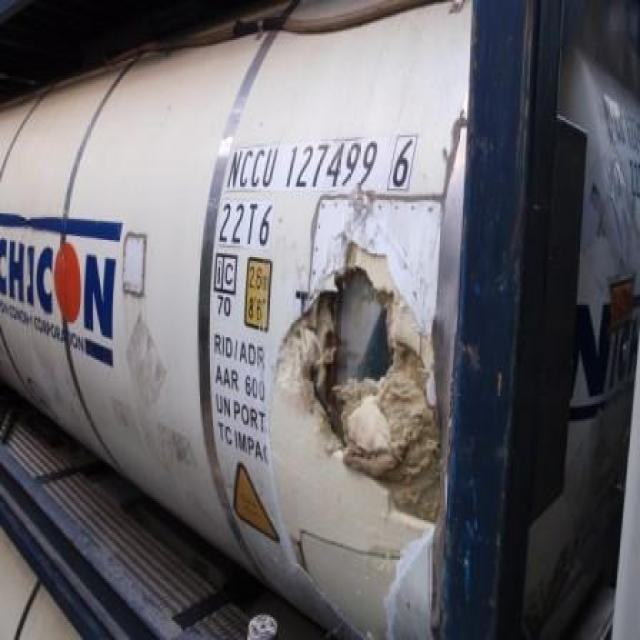hole: (290, 264, 408, 401)
